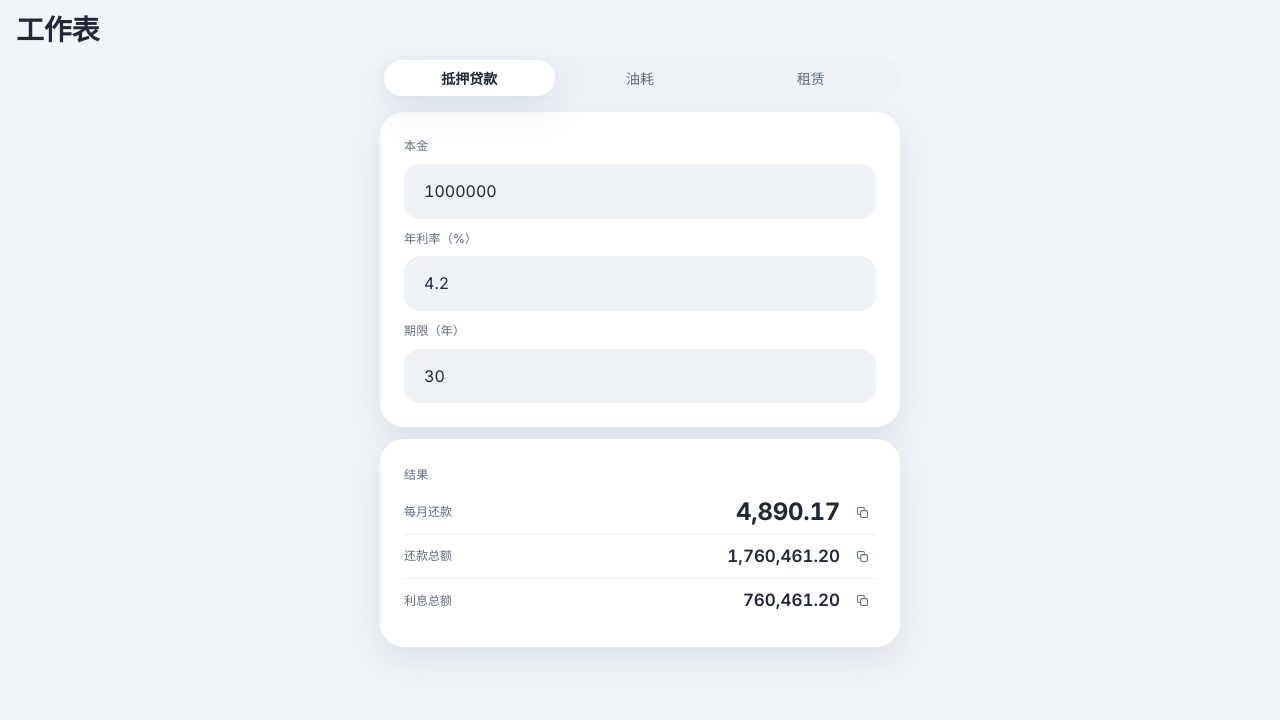
Scenario: WorksheetsPage › switches to fuel with registry defaults
The width and height of the screenshot is (1280, 720).
Click the radio button labelled "油耗" at (640, 78), box [555,60,725,96]
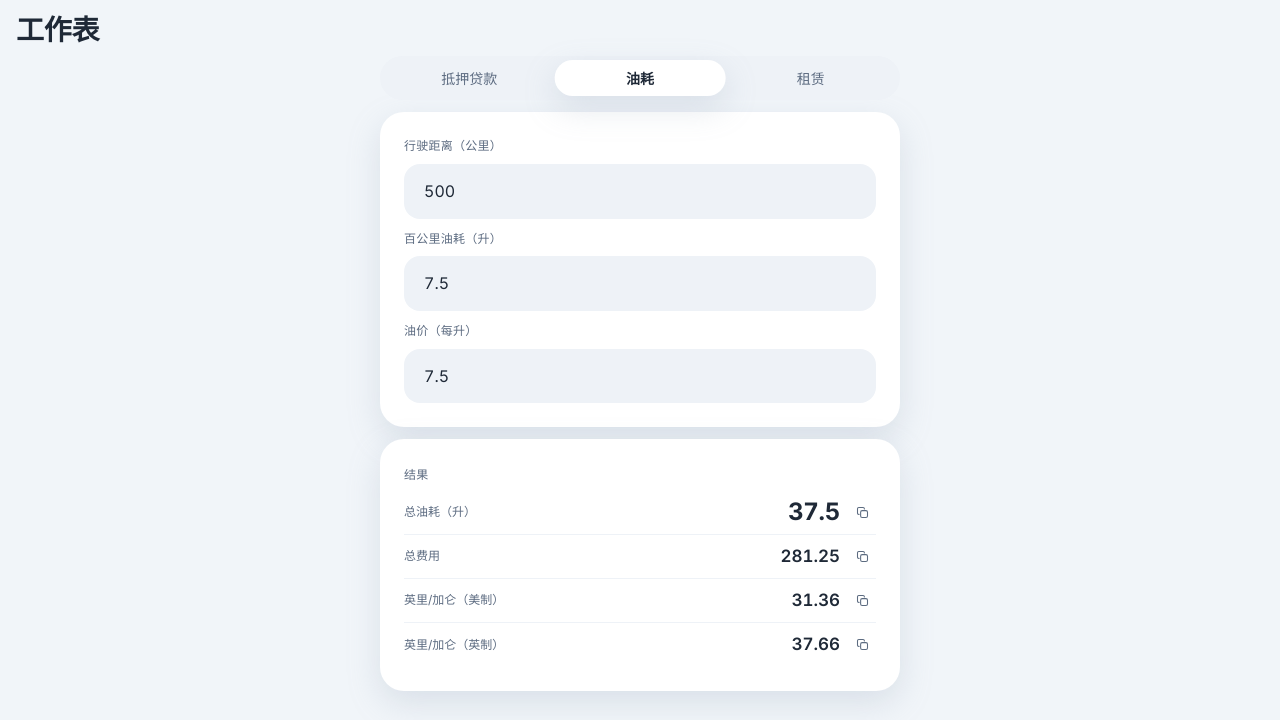
Check: the text with test id "worksheet-totalFuel" reads "37.5", box [788,498,840,526]
Check: the text with test id "worksheet-mpgUs" reads "31.36", box [791,590,840,610]
